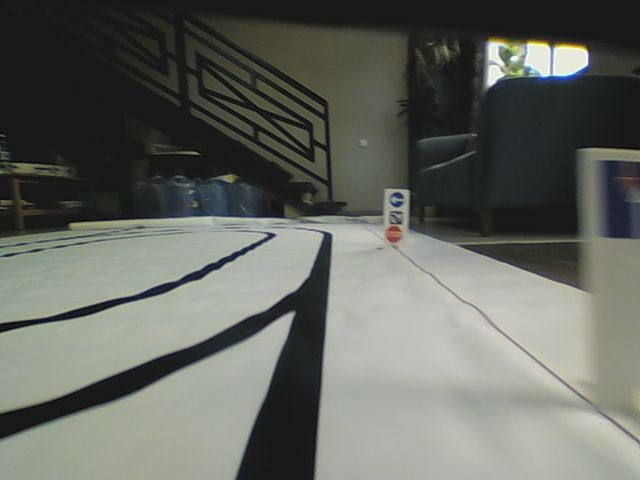Stop: (383, 225, 403, 243)
